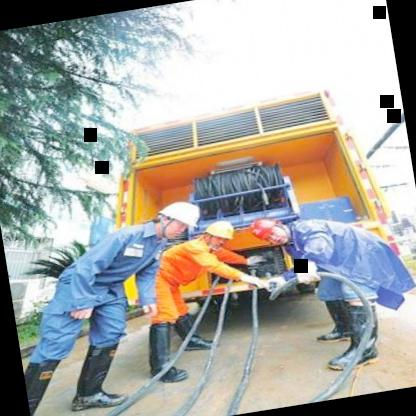helmet: (148, 195, 206, 240), (244, 211, 303, 253), (195, 213, 240, 250)
